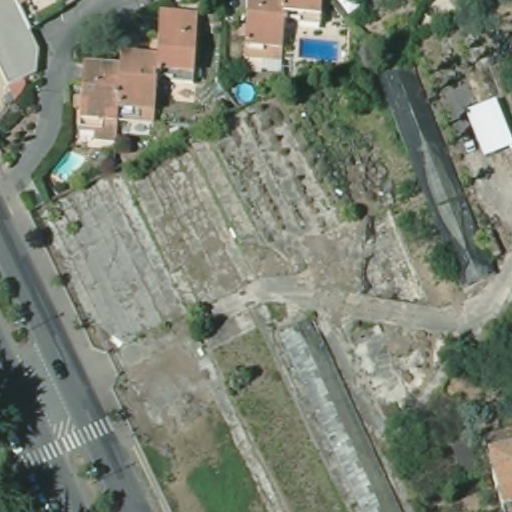pool: (297, 34, 344, 65), (49, 149, 86, 183), (234, 83, 258, 103)
